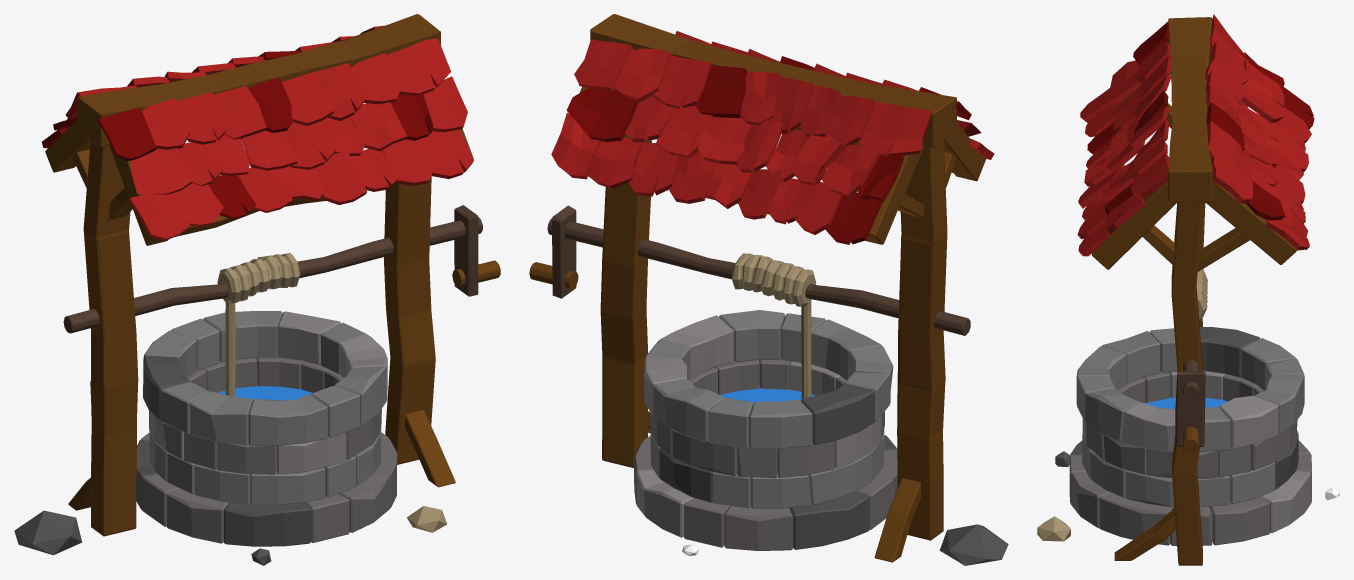
The model's file is Well-transformed.glb.
The picture shows the model from 3 angles, left to right: view 1: azimuth 30°, elevation 25°; view 2: azimuth 150°, elevation 25°; view 3: azimuth 270°, elevation 25°; orthographic projection. The views are drawn at different scales.
Visible parts, largest first — view 1: Cube.008_Material.005_0, Cube.062_Material.006_0, Cube.009_Wood_0, Cube.004_Material.004_0, rope_Material.003_0, Icosphere.010_Material.003_0, Cube.018_Material.006_0; view 2: Cube.008_Material.005_0, Cube.018_Material.006_0, Cube.009_Wood_0, Cube.004_Material.004_0, rope_Material.003_0, Icosphere.010_Material.003_0, Cube.062_Material.006_0; view 3: Cube.008_Material.005_0, Cube.009_Wood_0, Cube.018_Material.006_0, Cube.062_Material.006_0, Cube.004_Material.004_0, Icosphere.010_Material.003_0, rope_Material.003_0.
Part boxes in pixels (box(x1,y1,x2,y2)): Cube.008_Material.005_0: box(136, 311, 397, 546); Cube.062_Material.006_0: box(98, 38, 473, 240); Cube.009_Wood_0: box(45, 14, 473, 536); Cube.004_Material.004_0: box(63, 205, 500, 333); rope_Material.003_0: box(217, 252, 300, 396); Icosphere.010_Material.003_0: box(14, 506, 447, 565); Cube.018_Material.006_0: box(42, 25, 384, 148); Cube.008_Material.005_0: box(633, 310, 897, 550); Cube.018_Material.006_0: box(551, 39, 932, 244); Cube.009_Wood_0: box(579, 14, 985, 562); Cube.004_Material.004_0: box(529, 205, 970, 335); rope_Material.003_0: box(731, 253, 816, 398); Icosphere.010_Material.003_0: box(682, 524, 1008, 565); Cube.062_Material.006_0: box(675, 31, 994, 159); Cube.008_Material.005_0: box(1069, 327, 1311, 545); Cube.009_Wood_0: box(1092, 17, 1296, 565); Cube.018_Material.006_0: box(1205, 14, 1314, 250); Cube.062_Material.006_0: box(1077, 21, 1171, 256); Cube.004_Material.004_0: box(1175, 247, 1205, 452); Icosphere.010_Material.003_0: box(1037, 451, 1339, 541); rope_Material.003_0: box(1196, 269, 1207, 319).
Size of the model in its own units: 1.34 by 1.19 by 0.8046.
